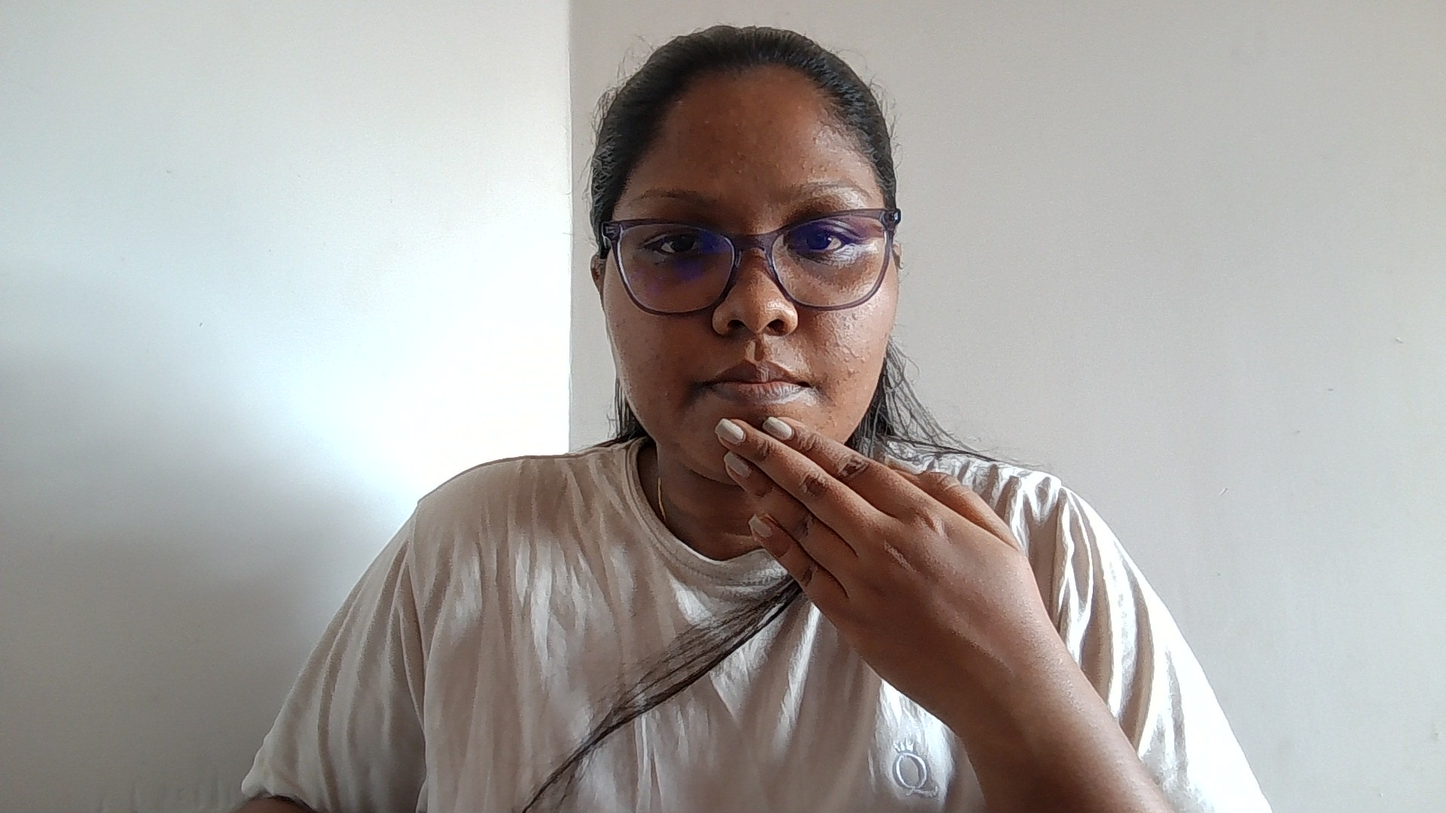Thank You: (667, 356, 1199, 739)
